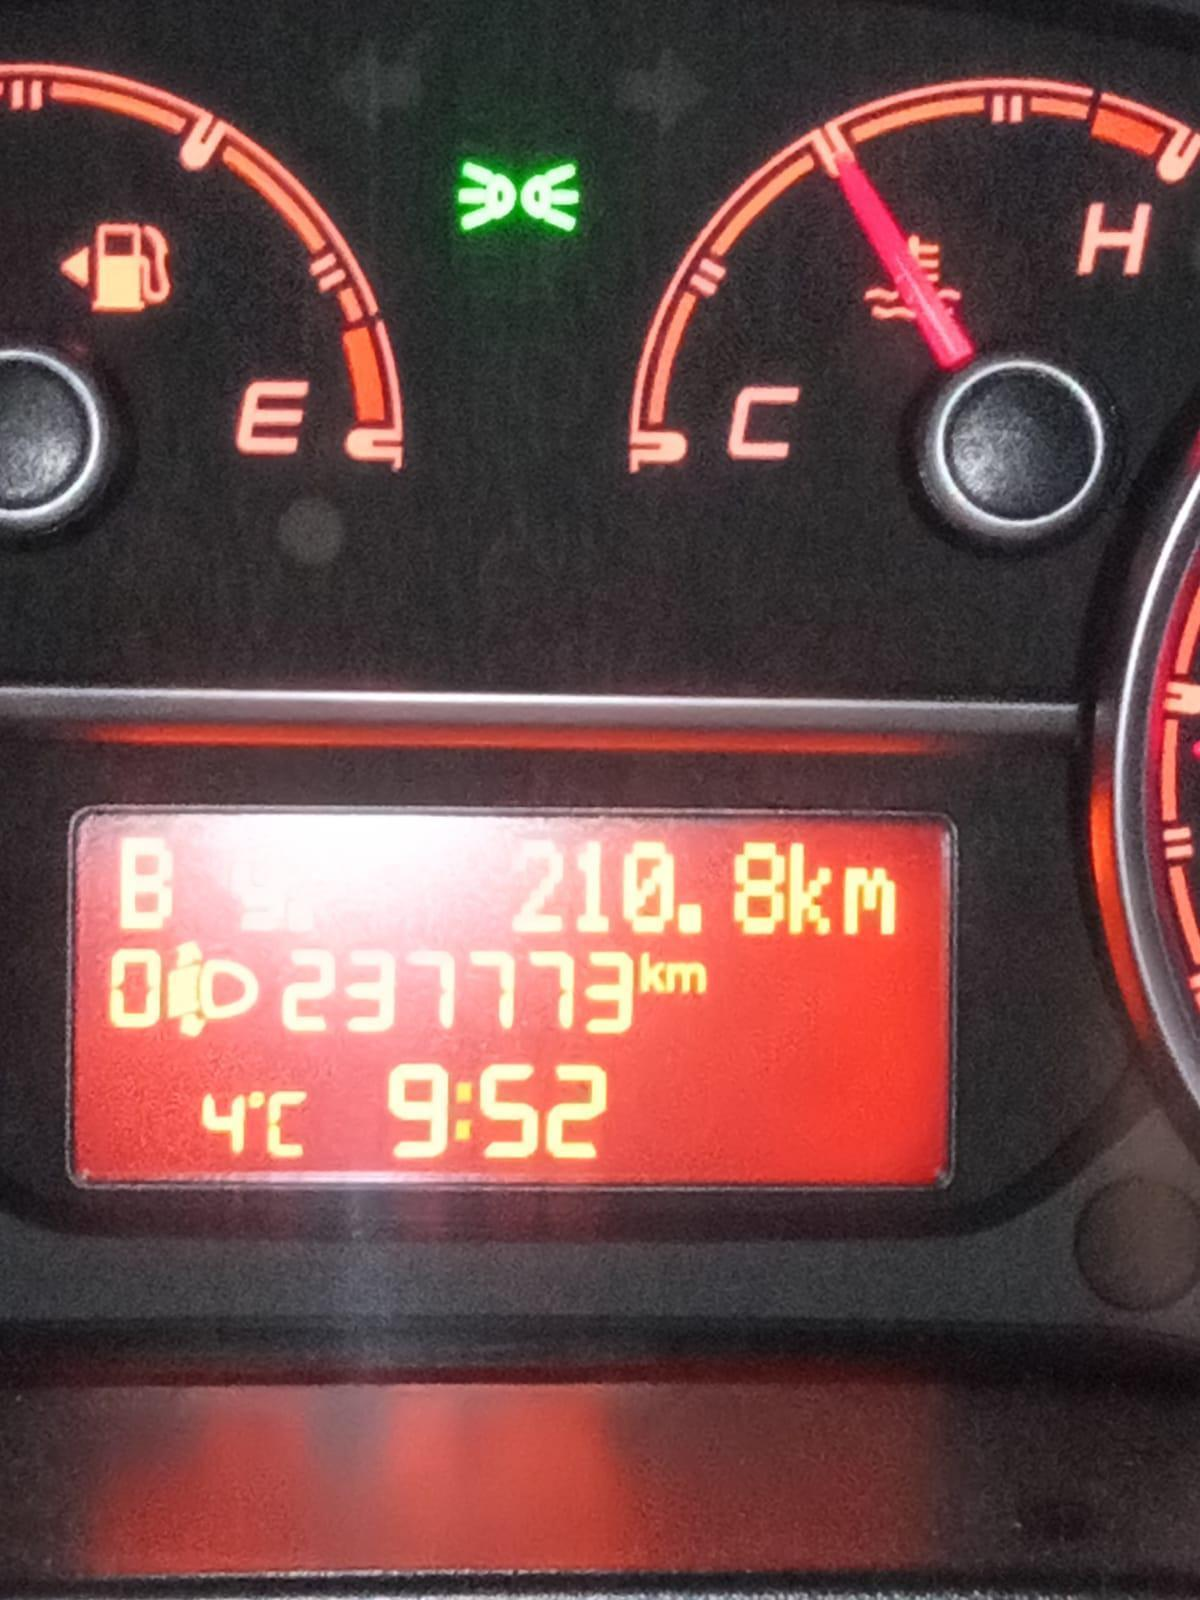,: (676, 901, 705, 936)
0: (621, 839, 676, 935), (105, 946, 163, 1031)
1: (574, 837, 610, 935)
2: (543, 1063, 609, 1160), (504, 837, 566, 936), (279, 947, 334, 1033)
3: (340, 947, 400, 1036), (581, 951, 637, 1036)
4: (198, 1091, 247, 1154)
5: (478, 1063, 539, 1162)
7: (466, 949, 521, 1033), (406, 947, 458, 1029), (526, 949, 576, 1032)
8: (729, 839, 787, 937)
9: (384, 1062, 451, 1160)
X: (117, 834, 176, 930), (787, 837, 833, 937), (839, 866, 897, 936), (263, 1089, 311, 1162), (453, 1078, 475, 1144), (666, 961, 707, 995), (638, 952, 668, 995)
odometer: (62, 803, 963, 1198)
